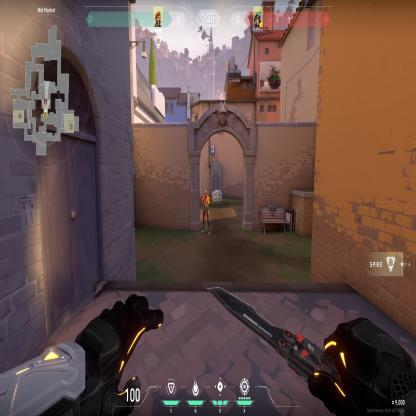enemy: (200, 188, 211, 234)
